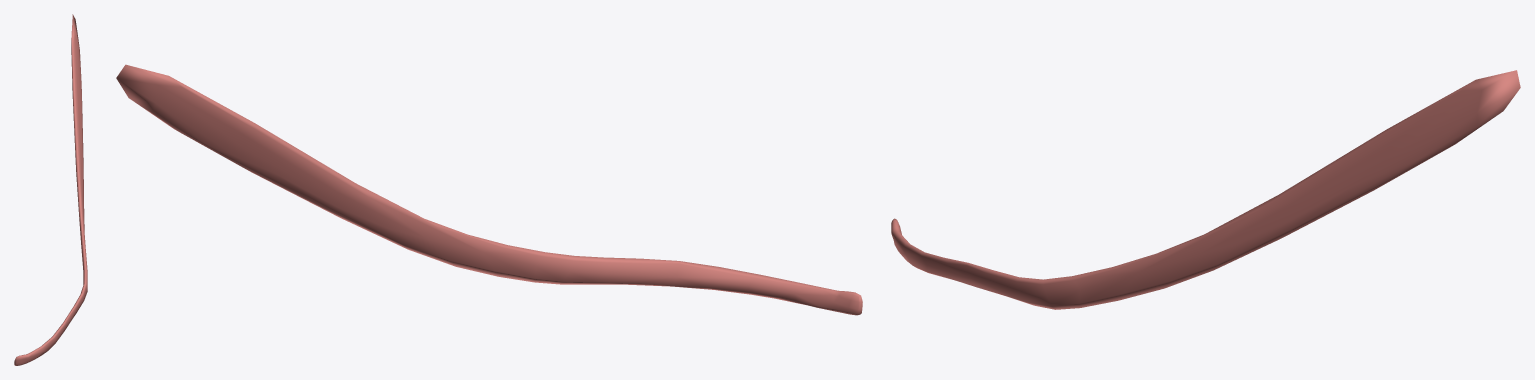
3 renders of one model, left to right at view 1: azimuth 30°, elevation 25°; view 2: azimuth 150°, elevation 25°; view 3: azimuth 270°, elevation 25°, orthographic. The views are drawn at different scales.
Visible parts, largest first — view 1: ZA_40741efdd2e1e2d2; view 2: ZA_40741efdd2e1e2d2; view 3: ZA_40741efdd2e1e2d2.
Part boxes in pixels (x1,y1,x2,y2): ZA_40741efdd2e1e2d2: [14, 14, 87, 365]; ZA_40741efdd2e1e2d2: [116, 64, 862, 315]; ZA_40741efdd2e1e2d2: [891, 70, 1520, 309].
Size of the model in its own units: 0.0262 by 0.0216 by 0.0329.
